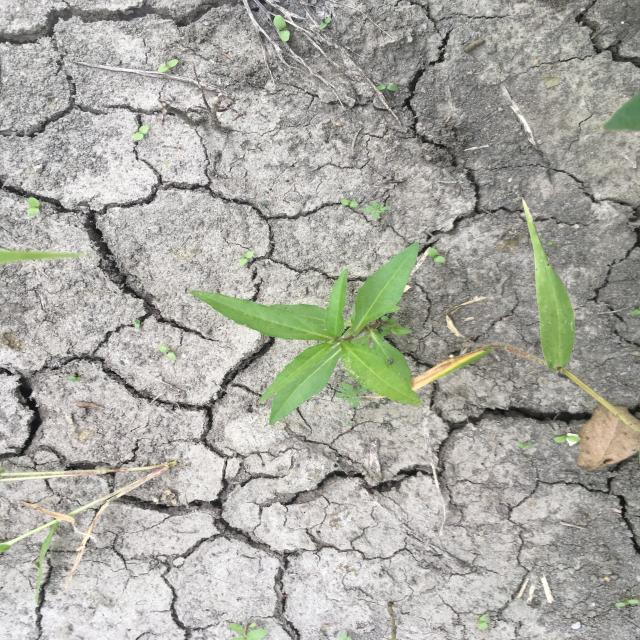Eclipta: (187, 240, 425, 428)
